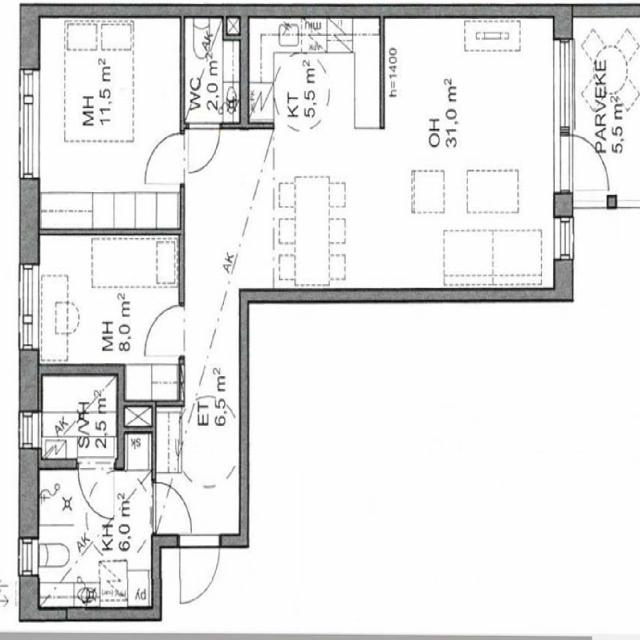door: (554, 136, 610, 190), (179, 534, 219, 604), (143, 132, 184, 184), (79, 459, 113, 518), (144, 306, 184, 356), (152, 482, 191, 532), (188, 122, 220, 174)
